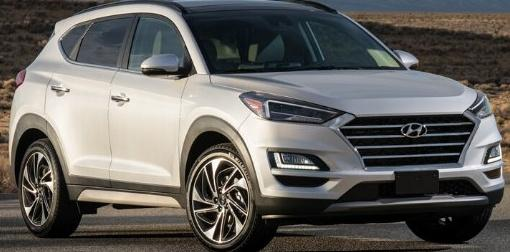Cars: (10, 2, 504, 251)
